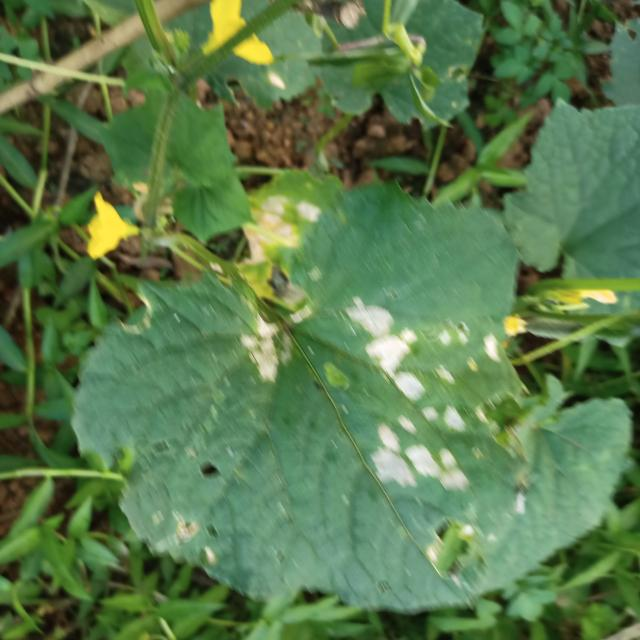disease_cucumber: (341, 286, 494, 504), (234, 312, 306, 393)
